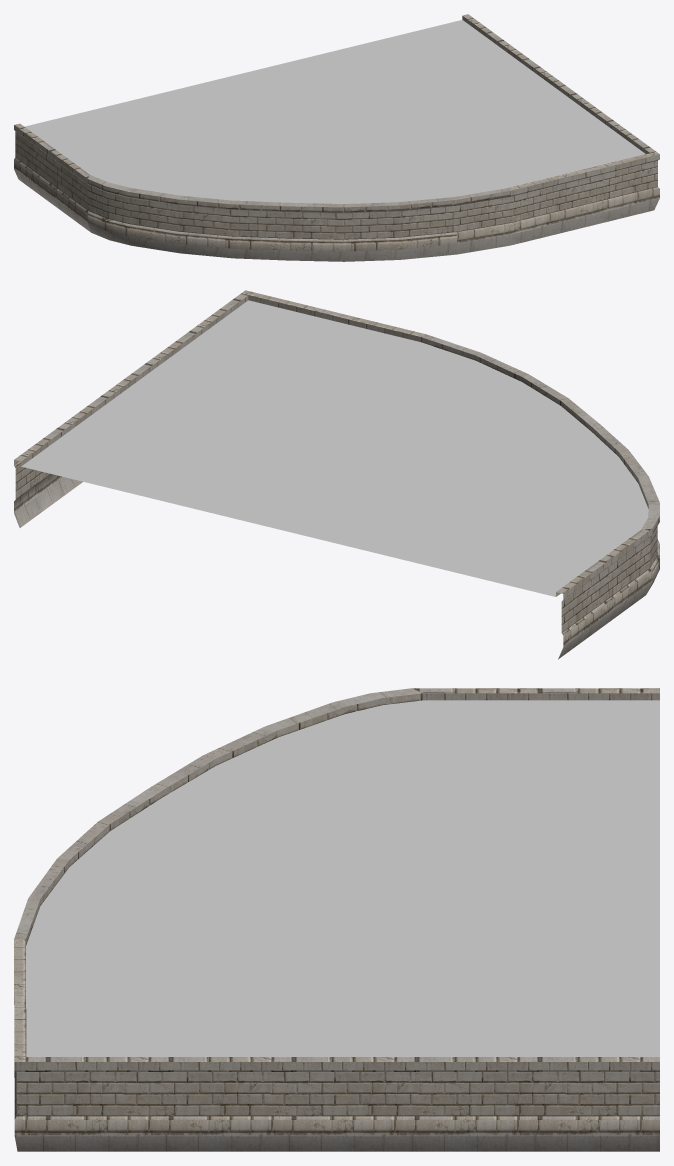
Rendered from Flowerbed_6x_HalfCircle.FBX.
3 views of the same model, one above another, from view 1: azimuth 30°, elevation 25°; view 2: azimuth 150°, elevation 25°; view 3: azimuth 270°, elevation 25° (orthographic). The views are drawn at different scales.
Visible parts, largest first — view 1: Flowerbed_6x_HalfCircle; view 2: Flowerbed_6x_HalfCircle; view 3: Flowerbed_6x_HalfCircle.
Part boxes in pixels (box(x1,y1,x2,y2)): Flowerbed_6x_HalfCircle: box(14, 14, 659, 261); Flowerbed_6x_HalfCircle: box(14, 290, 659, 659); Flowerbed_6x_HalfCircle: box(14, 688, 659, 1151).
Size of the model in its own units: 599 by 70.04 by 438.
